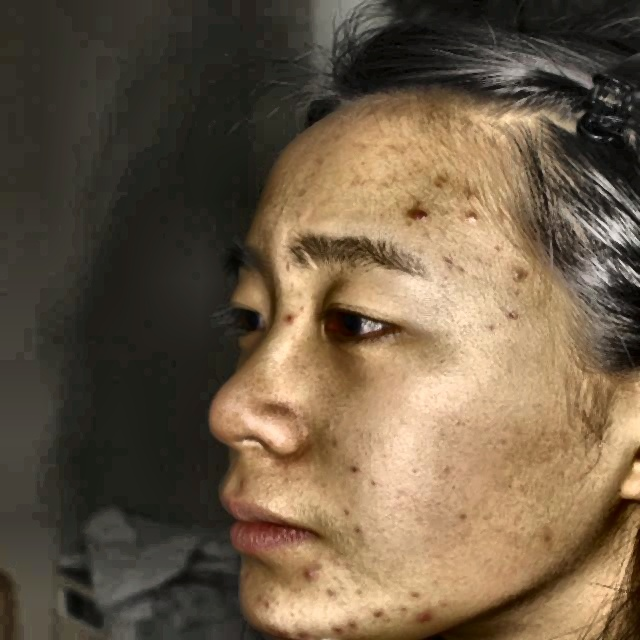pustule: (295, 560, 341, 597), (454, 202, 488, 225), (416, 601, 445, 627), (405, 190, 423, 231), (282, 300, 296, 326), (237, 563, 256, 577)
